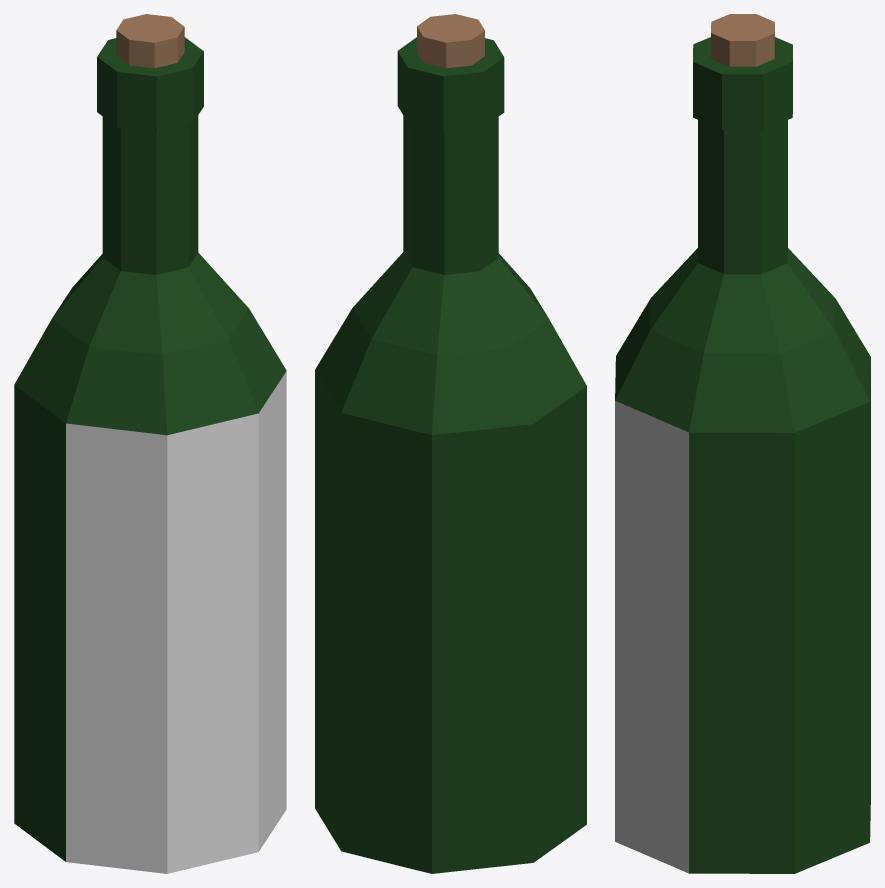
The model's file is bottle.fbx.
3 renders of one model, left to right at view 1: azimuth 30°, elevation 25°; view 2: azimuth 150°, elevation 25°; view 3: azimuth 270°, elevation 25°, orthographic.
Parts seen in each view (by area): view 1: Cylinder; view 2: Cylinder; view 3: Cylinder.
Part boxes in pixels (x1,y1,x2,y2): Cylinder: (14, 14, 286, 873); Cylinder: (315, 14, 586, 873); Cylinder: (615, 14, 870, 873).
Bounding box in the file's own units: 0.3099 × 1.06 × 0.3099.
